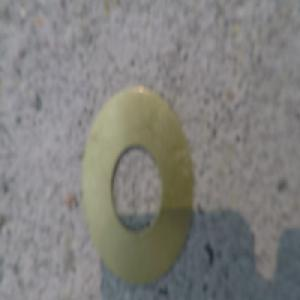Washer: (79, 84, 191, 285)
